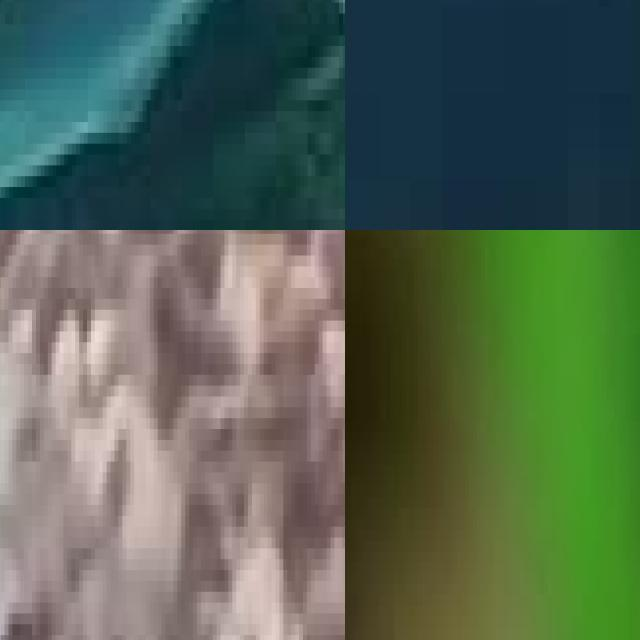fish: (0, 0, 345, 230), (0, 230, 122, 640)
